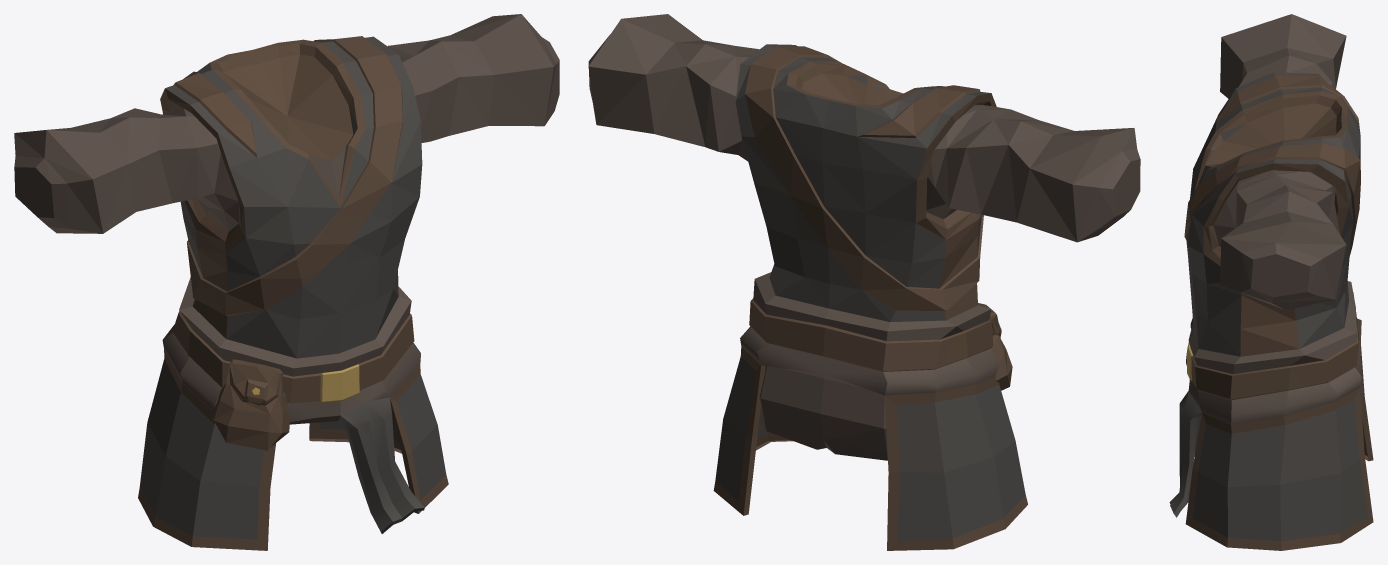
The model's file is armorAssassinDisplay.fbx.
3 views of the same model, side by side, from view 1: azimuth 30°, elevation 25°; view 2: azimuth 150°, elevation 25°; view 3: azimuth 270°, elevation 25° (orthographic). The views are drawn at different scales.
Parts seen in each view (by area): view 1: armorAssassinDisplay; view 2: armorAssassinDisplay; view 3: armorAssassinDisplay.
Boxes of the visible parts, x1,y1,x2,y2 form: armorAssassinDisplay: (14,14,559,550); armorAssassinDisplay: (588,14,1140,550); armorAssassinDisplay: (1169,14,1373,550).
Bounding box in the file's own units: 1.91 × 1.51 × 0.7264.
